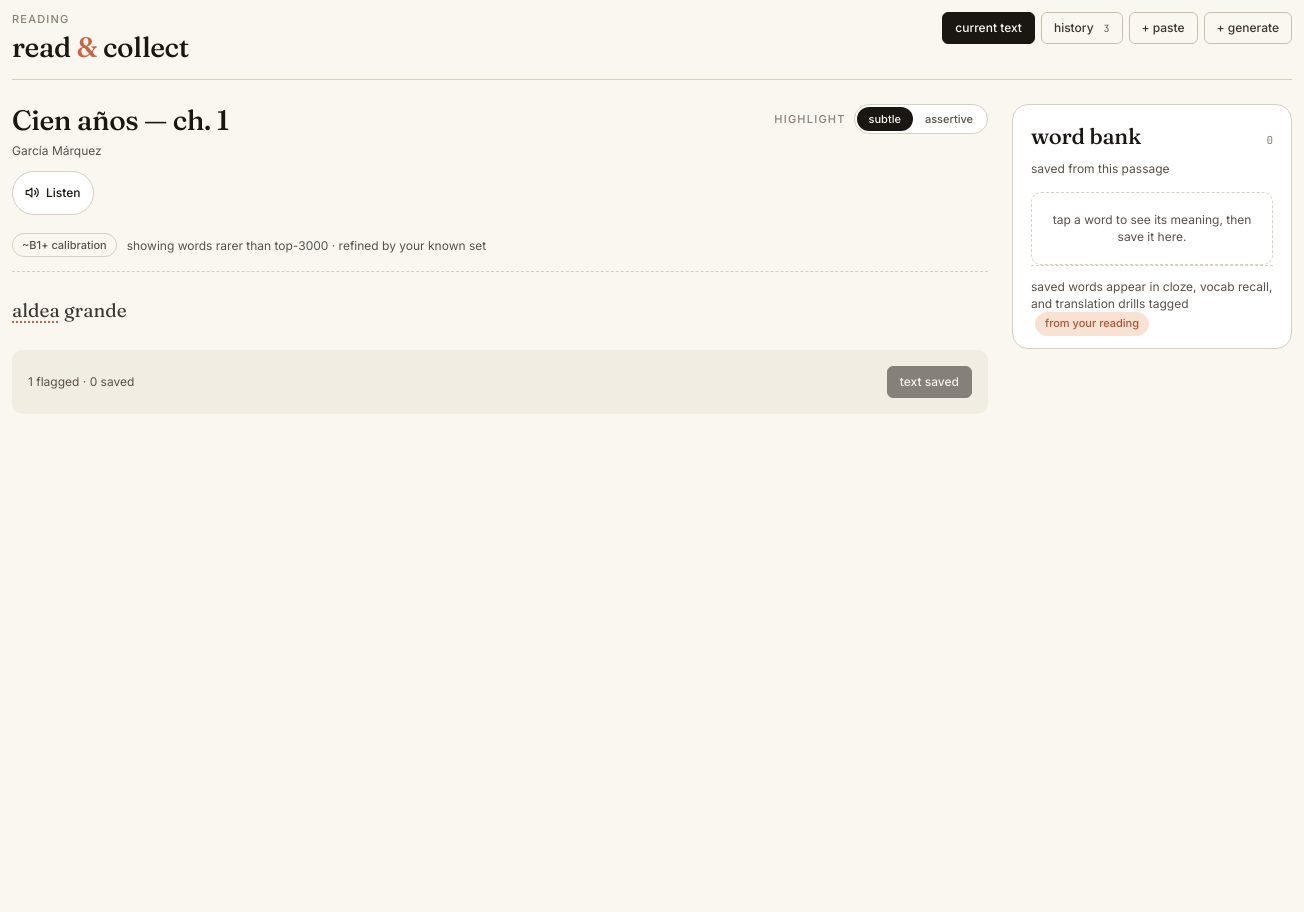
it: ReadPage — top-bar view switching › clicking "+ paste new" switches to the PasteView
The image size is (1304, 912).
Click the button "+ paste": click(1163, 28) x1=1129 y1=12 x2=1198 y2=44
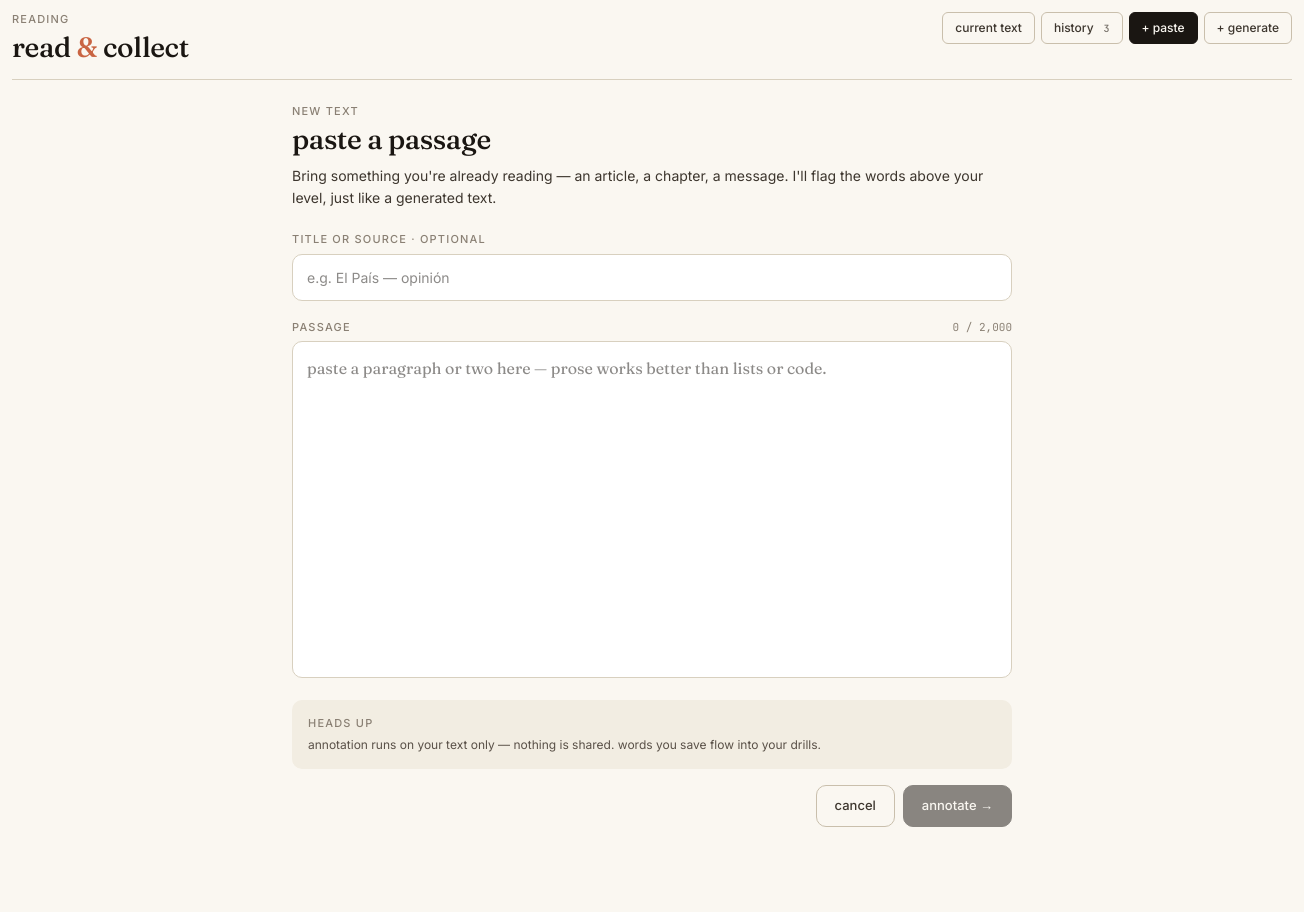
Expected: the heading "paste a passage" is shown, x1=292 y1=122 x2=491 y2=156
Expected: the button "annotate →" is shown, x1=903 y1=785 x2=1012 y2=827
